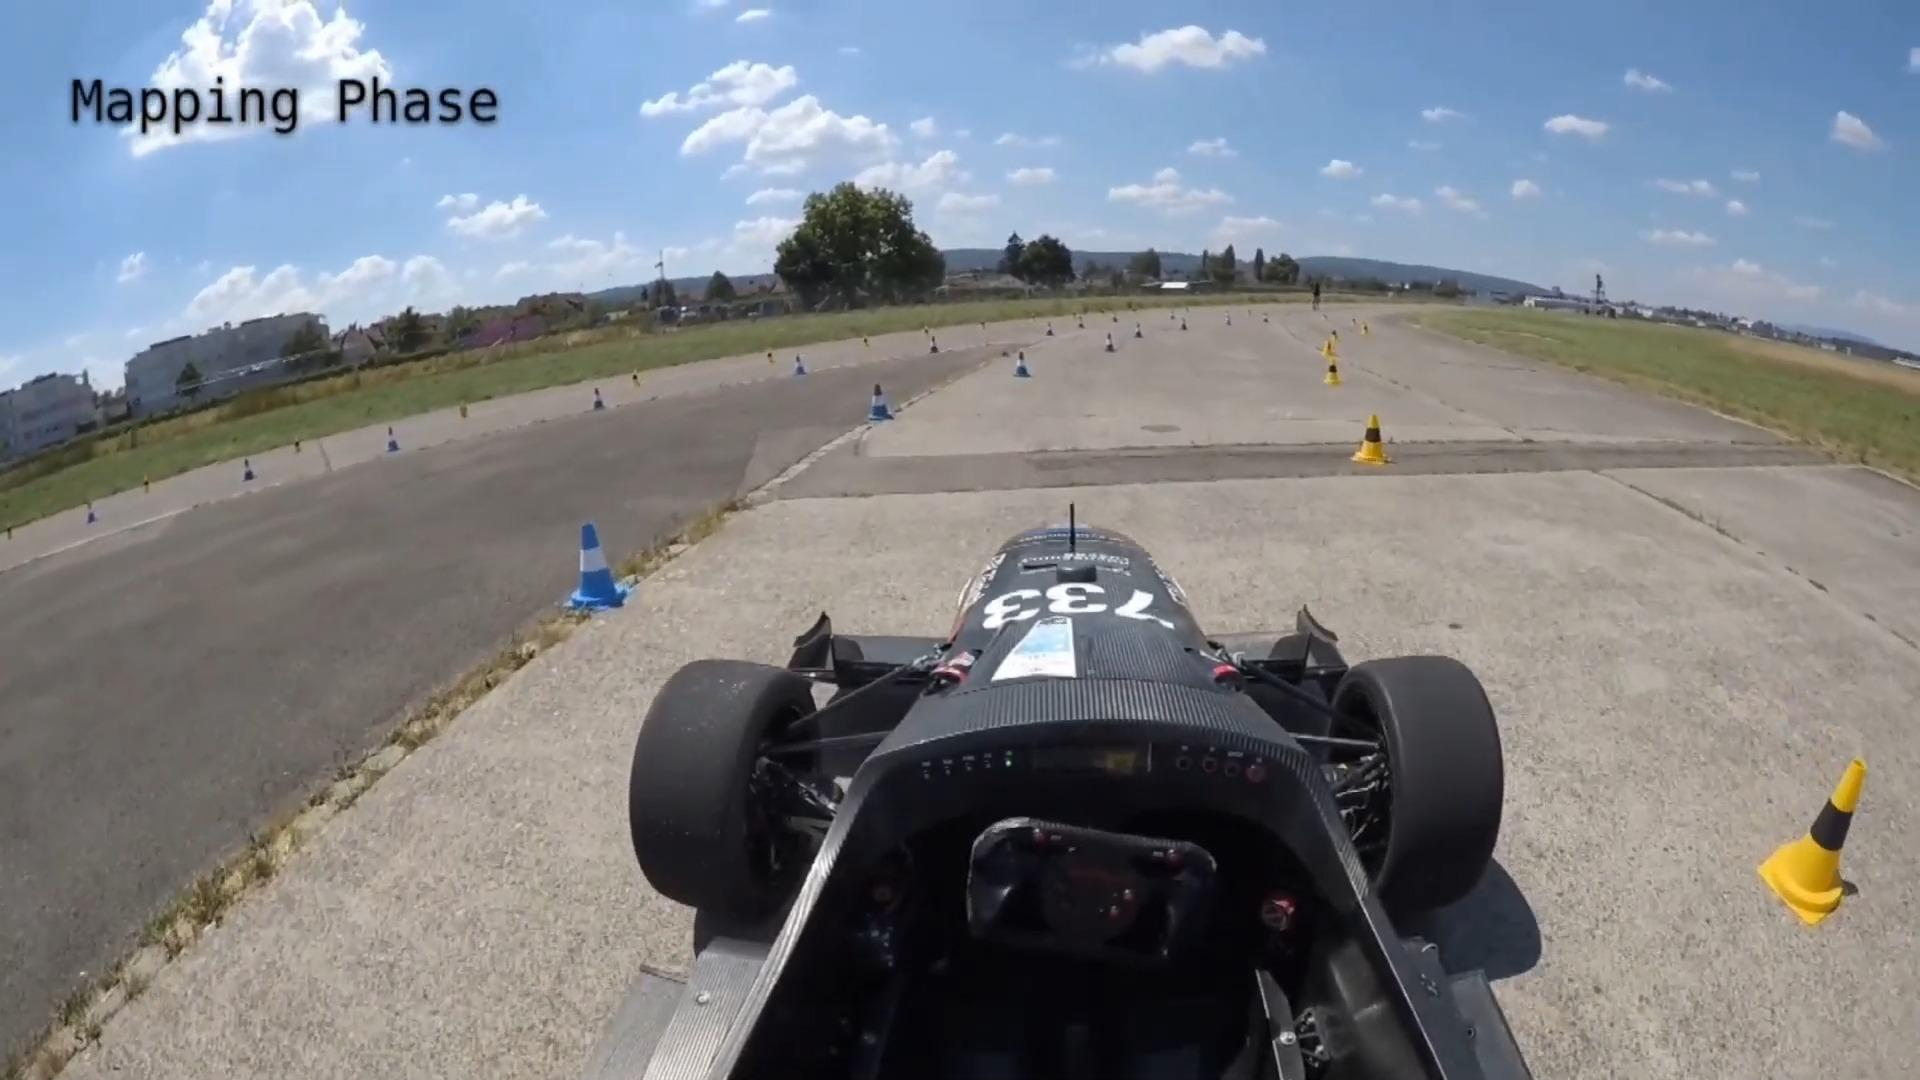blue_cone: (564, 519, 637, 619), (859, 381, 899, 431), (588, 386, 612, 418), (1011, 350, 1032, 381), (380, 427, 401, 454), (789, 353, 809, 380), (240, 457, 259, 484), (1100, 332, 1120, 356), (84, 500, 101, 526), (928, 335, 941, 359), (1132, 320, 1146, 341), (1044, 320, 1056, 339)
yellow_cone: (1759, 751, 1888, 930), (1350, 412, 1394, 466), (1321, 358, 1344, 389), (1320, 339, 1338, 360), (764, 346, 778, 366), (1330, 328, 1345, 346), (458, 399, 470, 421), (630, 371, 642, 391), (141, 476, 153, 495), (292, 436, 303, 454), (861, 333, 872, 350)
